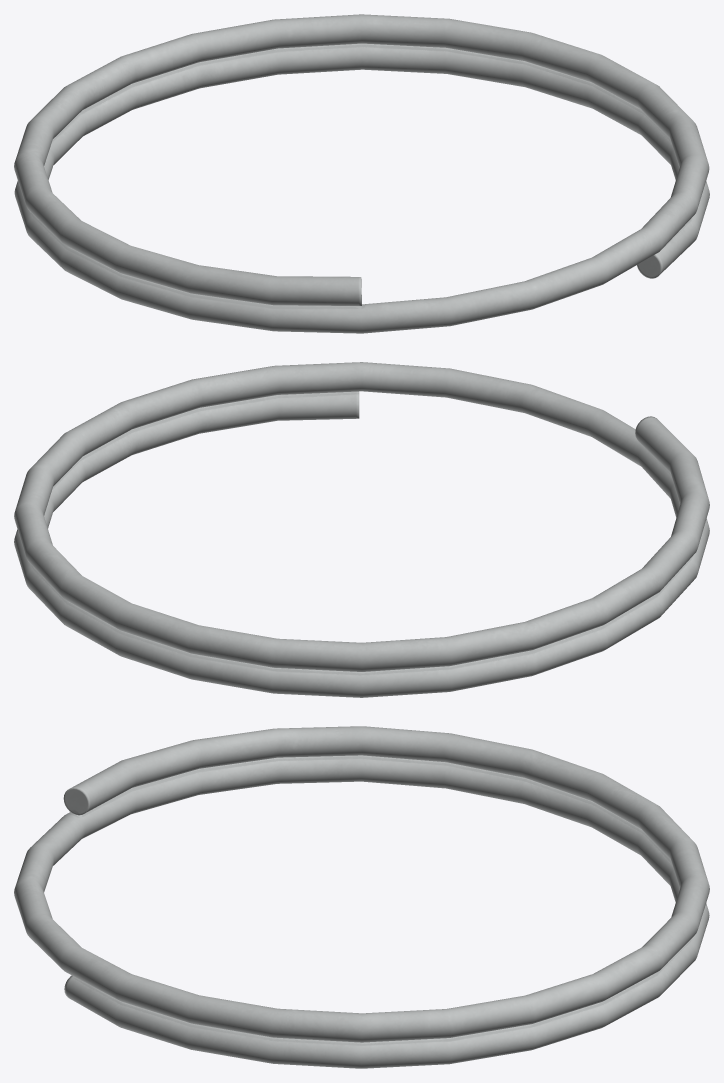
Rendered from KeyRing_sub0.fbx.
The picture shows the model from 3 angles, top to bottom: view 1: azimuth 30°, elevation 25°; view 2: azimuth 150°, elevation 25°; view 3: azimuth 270°, elevation 25°; orthographic projection.
Visible parts, largest first — view 1: KeyRing_new; view 2: KeyRing_new; view 3: KeyRing_new.
Part boxes in pixels (x1=…): KeyRing_new: x1=14, y1=14, x2=709, y2=333; KeyRing_new: x1=14, y1=362, x2=709, y2=697; KeyRing_new: x1=14, y1=726, x2=709, y2=1068.
Size of the model in its own units: 3.17 by 0.3549 by 3.17.
